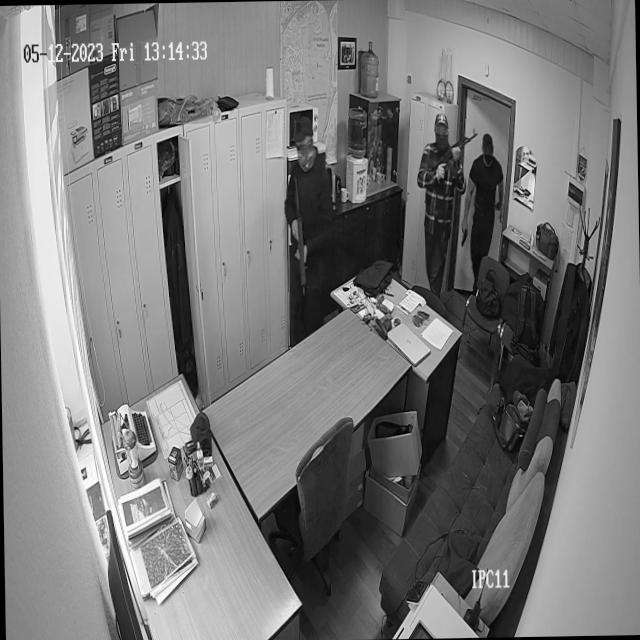gun: (290, 176, 309, 296), (434, 126, 479, 166), (459, 228, 468, 249)
person with a gun: (284, 120, 332, 322), (420, 114, 459, 288), (463, 136, 500, 263)
